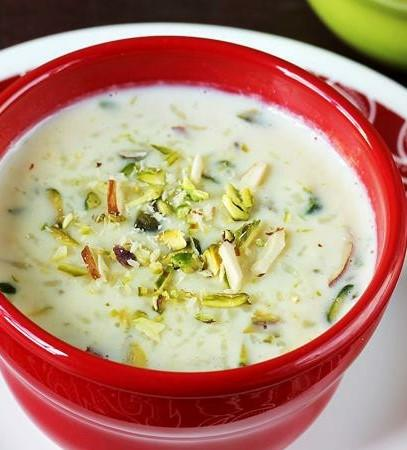Kheer: (3, 84, 376, 373)
